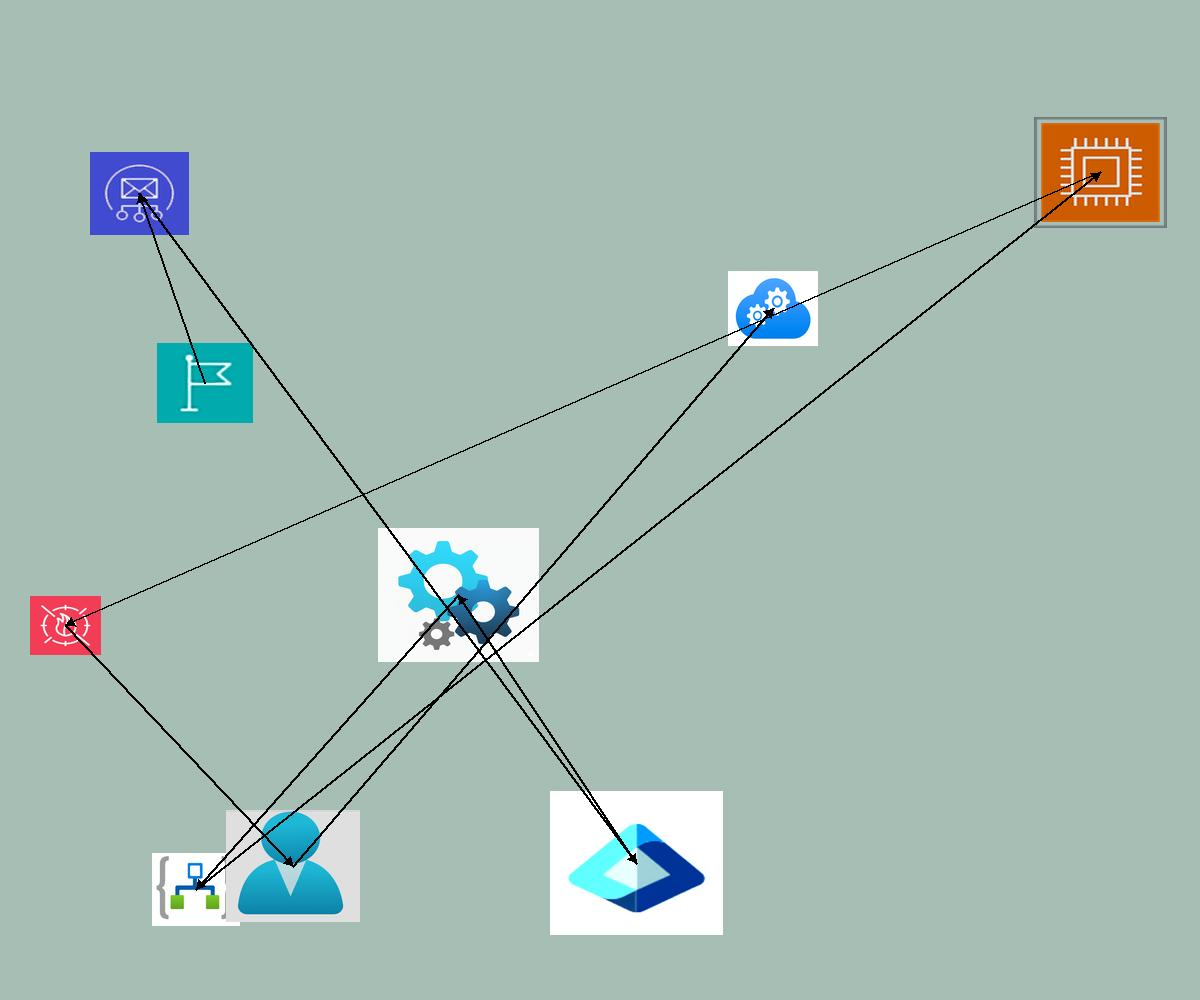AWS-Category_Compute: (1034, 117, 1167, 228)
AWS-Region: (157, 343, 253, 423)
AWS-Simple-Email-Service: (90, 152, 189, 235)
AWS-WAF: (30, 596, 101, 655)
Azure_api: (378, 528, 539, 662)
Azure_cloud_services: (728, 271, 818, 346)
Azure_integration-204-Logic-Apps: (152, 853, 240, 926)
Azure_microsoft_entra: (550, 791, 723, 935)
Azure_users: (226, 810, 360, 922)
